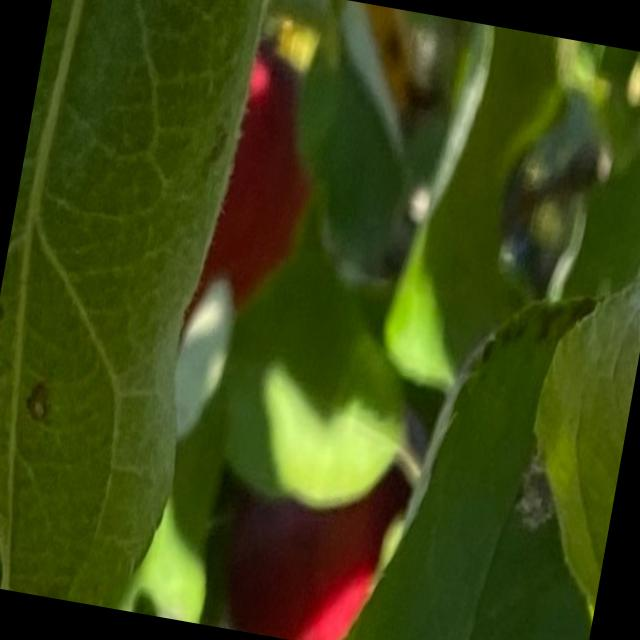Apples: (185, 48, 332, 328), (216, 451, 397, 639)
